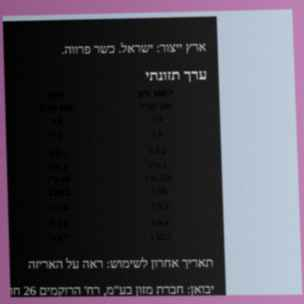carbs: (150, 185, 168, 197)
energy: (139, 100, 174, 112)
fat: (150, 113, 163, 125)
protein: (148, 231, 173, 243)
